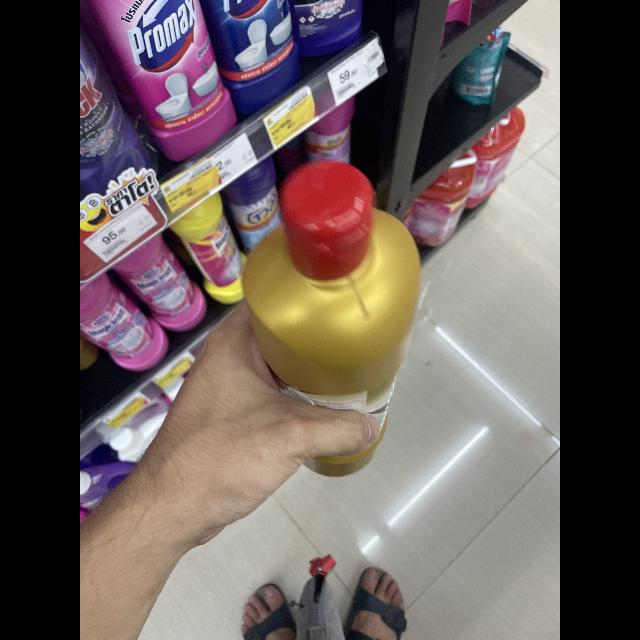chemical_plastic_bottle: (231, 146, 427, 478)
